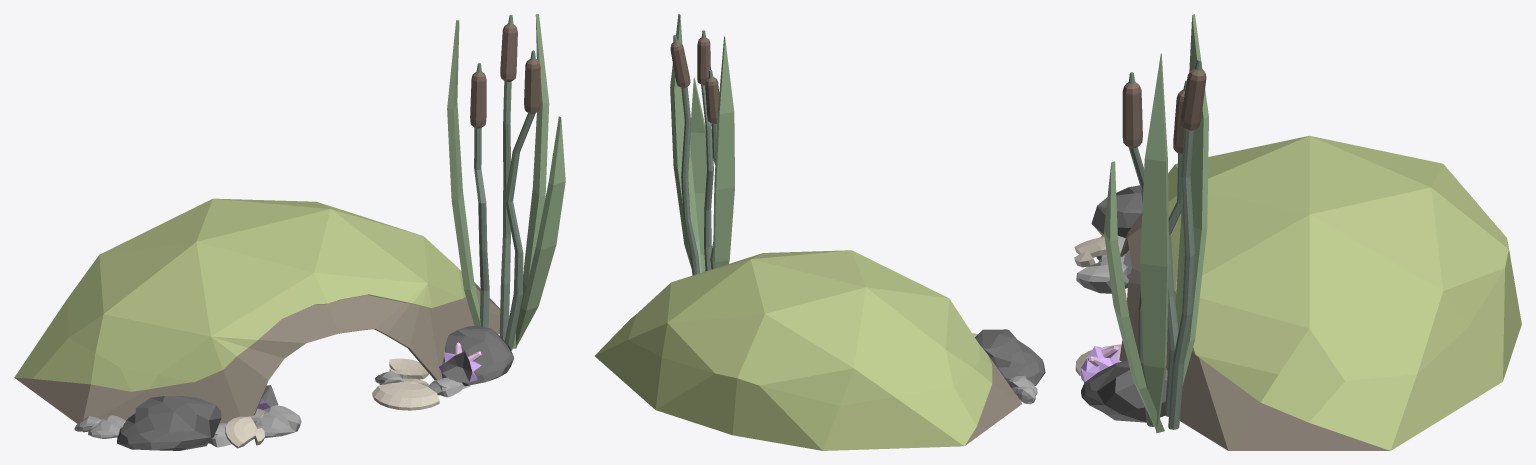
The model's file is BubblesDwelling.fbx.
The picture shows the model from 3 angles, left to right: view 1: azimuth 30°, elevation 25°; view 2: azimuth 150°, elevation 25°; view 3: azimuth 270°, elevation 25°; orthographic projection. The views are drawn at different scales.
Parts seen in each view (by area): view 1: BubblesDwelling; view 2: BubblesDwelling; view 3: BubblesDwelling.
Boxes of the visible parts, <box> form: BubblesDwelling: <box>14,14,565,450</box>; BubblesDwelling: <box>595,14,1045,450</box>; BubblesDwelling: <box>1074,14,1521,450</box>.
Bounding box in the file's own units: 5.8 × 4.12 × 4.18.
